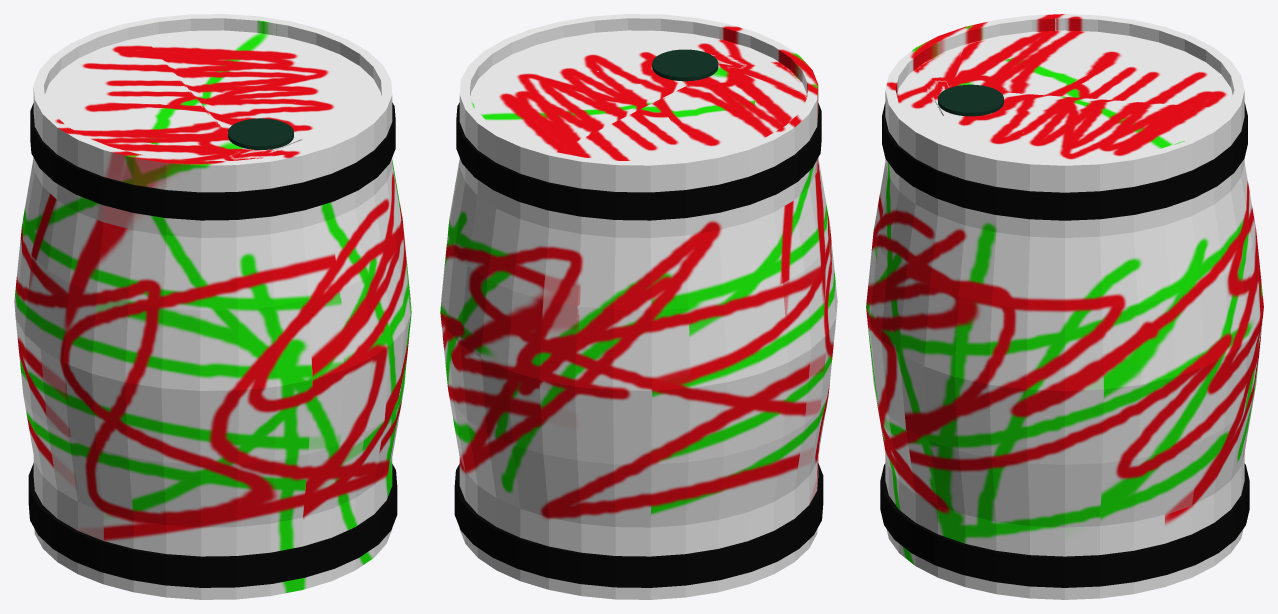
Rendered from barrel.fbx.
3 renders of one model, left to right at view 1: azimuth 30°, elevation 25°; view 2: azimuth 150°, elevation 25°; view 3: azimuth 270°, elevation 25°, orthographic.
Visible parts, largest first — view 1: Cylinder; view 2: Cylinder; view 3: Cylinder.
Part boxes in pixels (left/top/right/bottom): Cylinder: left=14, top=14, right=411, bottom=599; Cylinder: left=440, top=14, right=837, bottom=599; Cylinder: left=866, top=14, right=1263, bottom=599.
Size of the model in its own units: 166 by 200 by 166.
3 materials, 1 textured.
